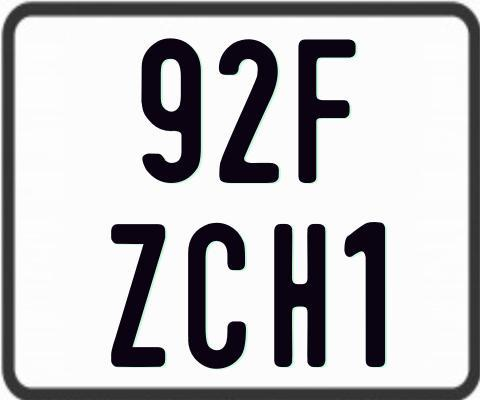1: (343, 222, 390, 371)
2: (216, 39, 281, 189)
9: (140, 38, 204, 186)
C: (188, 221, 248, 368)
F: (297, 38, 355, 182)
H: (273, 221, 329, 368)
Z: (110, 221, 164, 367)
